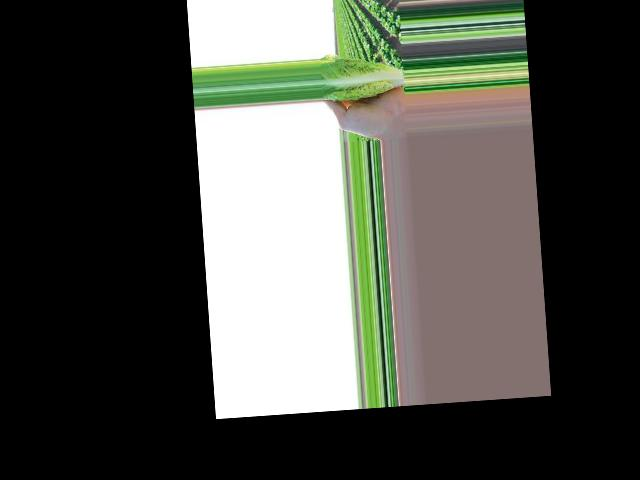lettuce: (335, 25, 430, 140)
